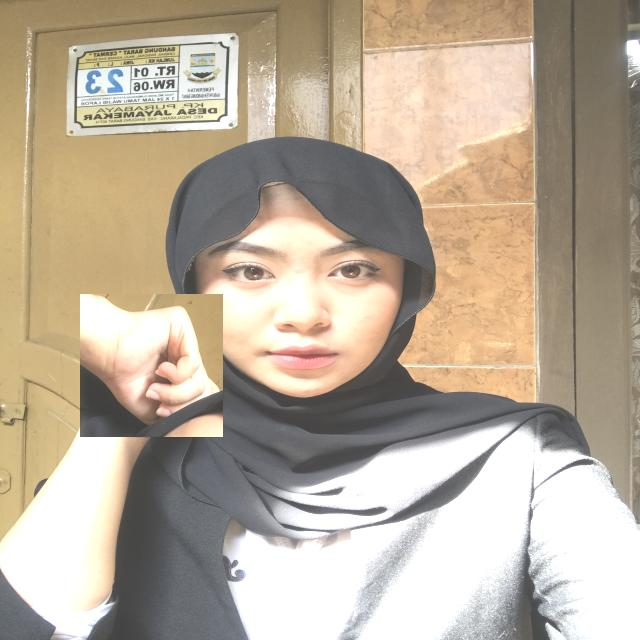ibu: (80, 294, 223, 438)
